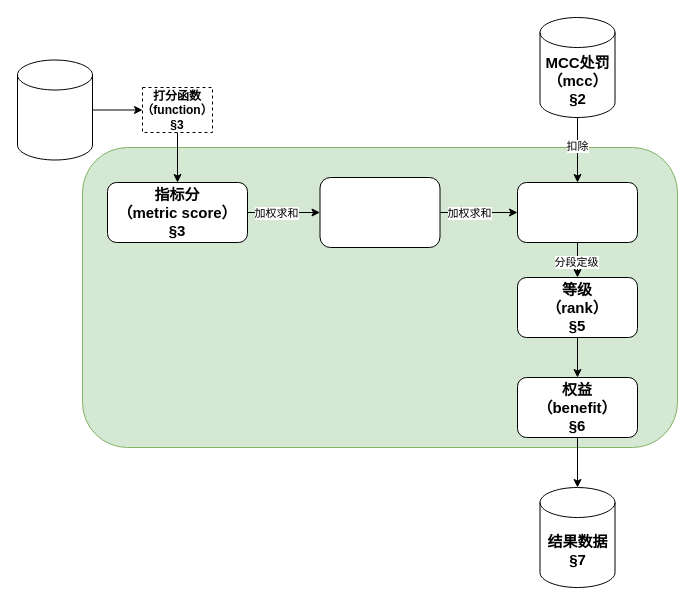
The diagram is 695 pixels wide and 605 high, and some of its shapes have lost their labels. Here are the shapes that lost their labels. From the top down, the centre of each, then its label:
At point 54,109: "业务指标 （metric） §2".
At point 379,212: "维度分 （dim score） §4".
At point 577,212: "总分 （final score） §4".
